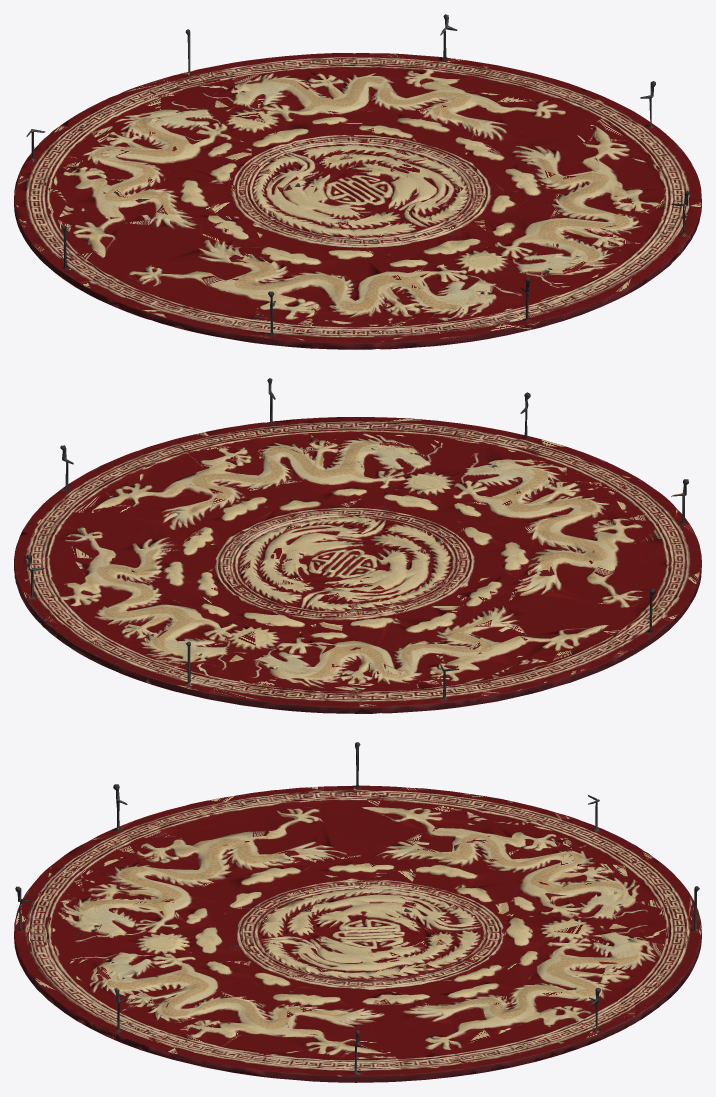
File: thamr.glb
The picture shows the model from 3 angles, top to bottom: view 1: azimuth 30°, elevation 25°; view 2: azimuth 150°, elevation 25°; view 3: azimuth 270°, elevation 25°; orthographic projection.
Size of the model in its own units: 1.9 by 0.158 by 1.9.
Materials: 1 (1 with a texture image).
